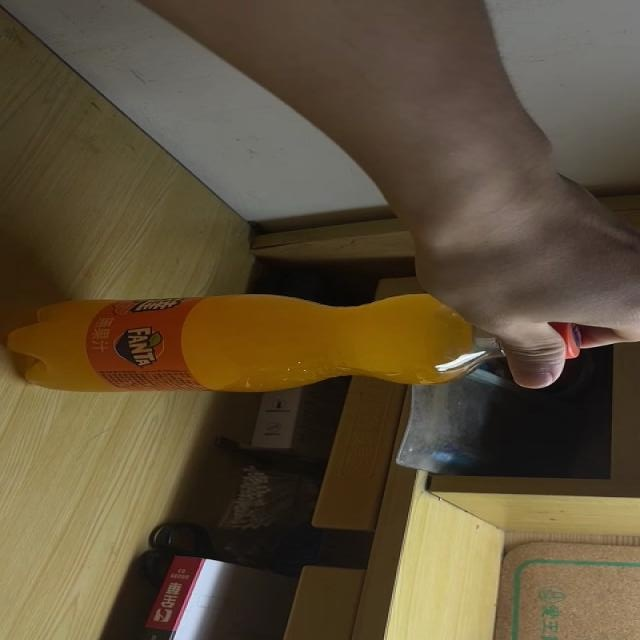Fanta: (0, 292, 582, 393)
